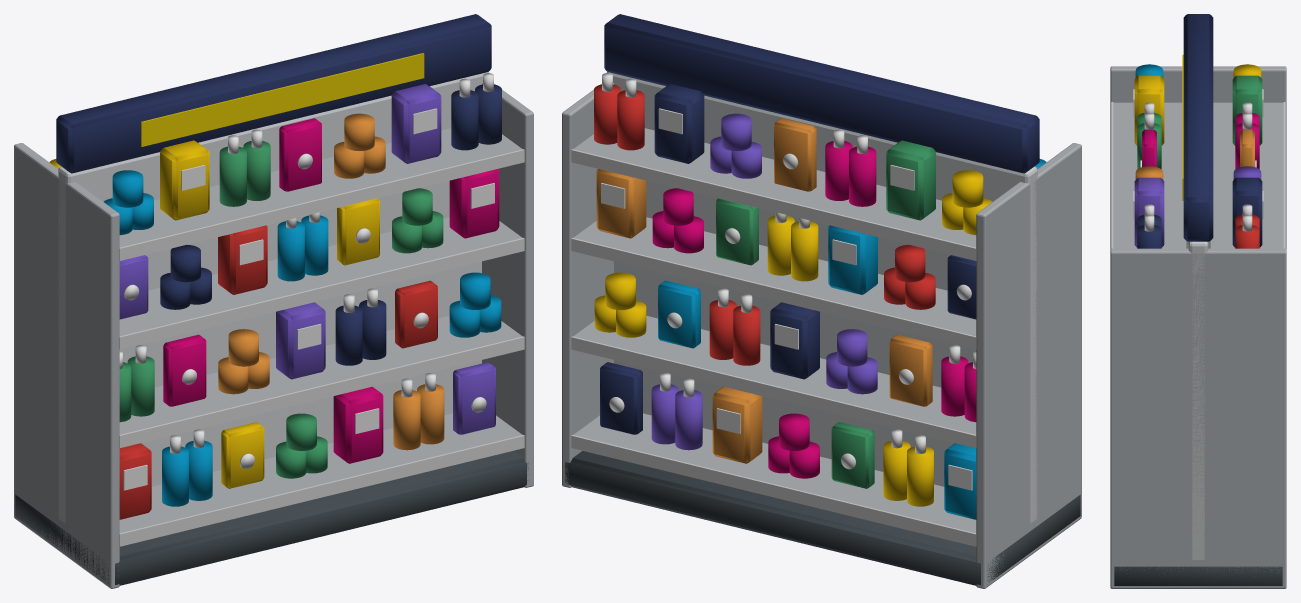
The model's file is m_storeshelf.glb.
3 renders of one model, left to right at view 1: azimuth 30°, elevation 25°; view 2: azimuth 150°, elevation 25°; view 3: azimuth 270°, elevation 25°, orthographic. The views are drawn at different scales.
Parts seen in each view (by area): view 1: m_storeshelf; view 2: m_storeshelf; view 3: m_storeshelf.
Part boxes in pixels (box(x1,y1,x2,y2)): m_storeshelf: box(14, 14, 533, 588); m_storeshelf: box(562, 14, 1081, 588); m_storeshelf: box(1110, 14, 1286, 588).
Bounding box in the file's own units: 0.9 × 0.88 × 0.36.
